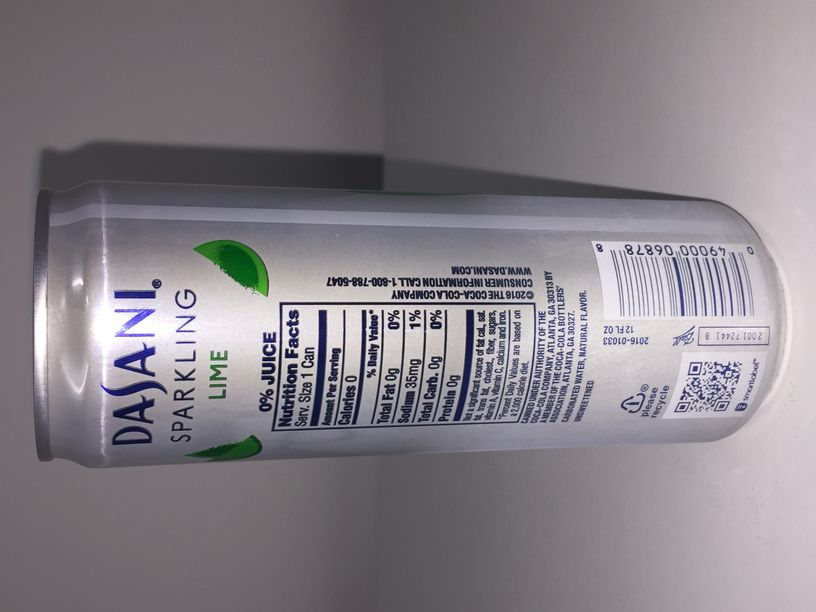lime: (31, 177, 790, 469)
